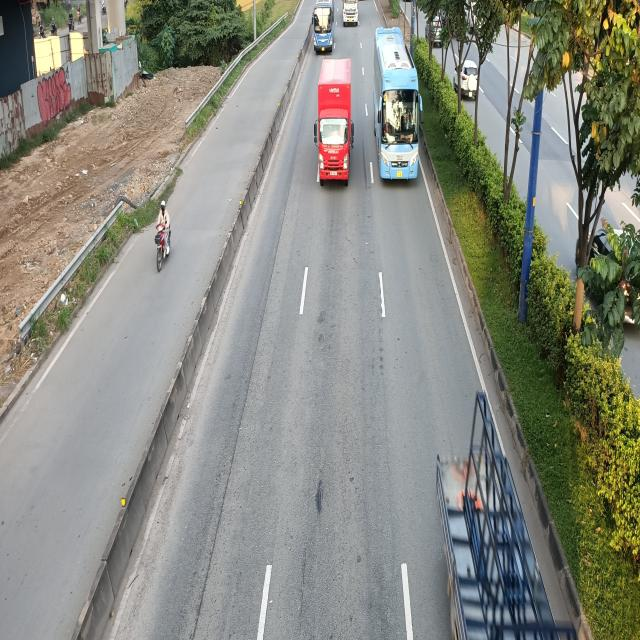coach: (376, 25, 425, 181), (312, 1, 336, 54)
truck: (316, 59, 358, 185)
